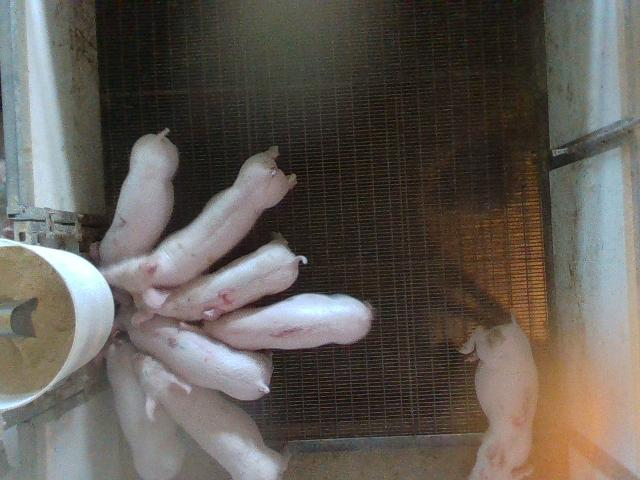pig-1: (204, 294, 371, 350)
pig-3: (459, 318, 539, 478)
pig-4: (134, 232, 306, 321)
